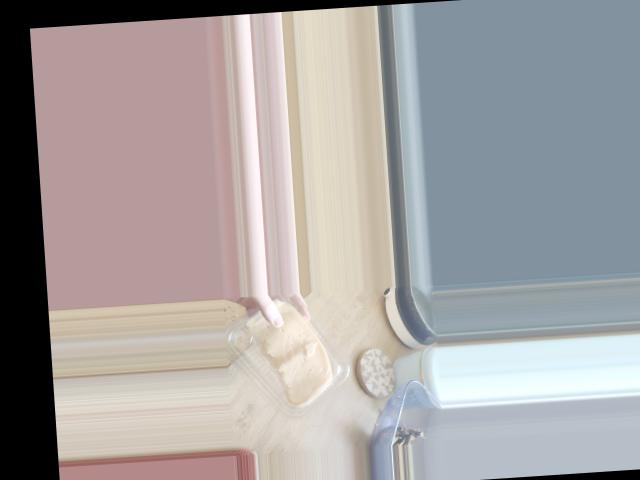cheese: (227, 299, 364, 436)
